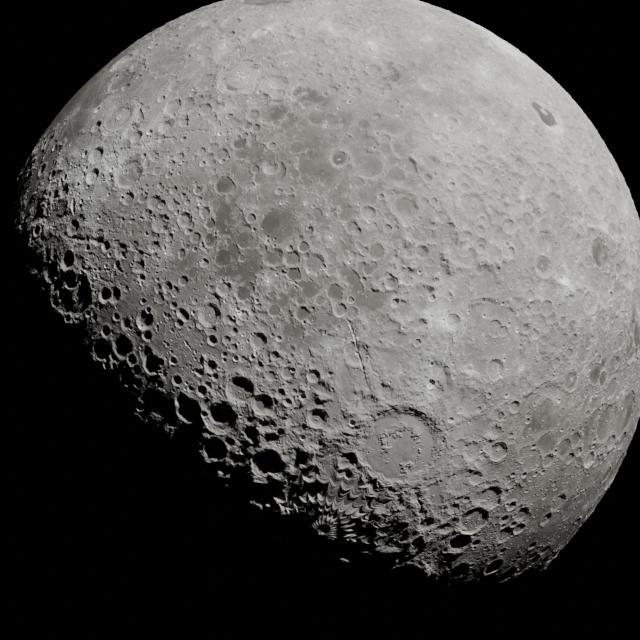crater: (49, 268, 97, 317), (170, 393, 205, 426), (250, 445, 285, 477), (441, 530, 477, 558), (198, 434, 228, 466), (208, 398, 236, 432), (454, 508, 488, 536), (55, 241, 83, 271), (89, 334, 117, 363), (230, 370, 251, 404), (109, 330, 135, 356), (141, 350, 165, 378), (252, 389, 276, 417), (334, 444, 358, 472), (306, 401, 328, 431), (488, 438, 510, 465), (200, 301, 220, 330), (88, 141, 108, 167), (252, 325, 268, 354), (134, 309, 154, 331), (55, 179, 74, 201), (495, 523, 515, 542), (84, 166, 104, 184), (305, 365, 322, 383), (202, 356, 220, 370), (204, 330, 218, 348), (99, 286, 113, 302)
